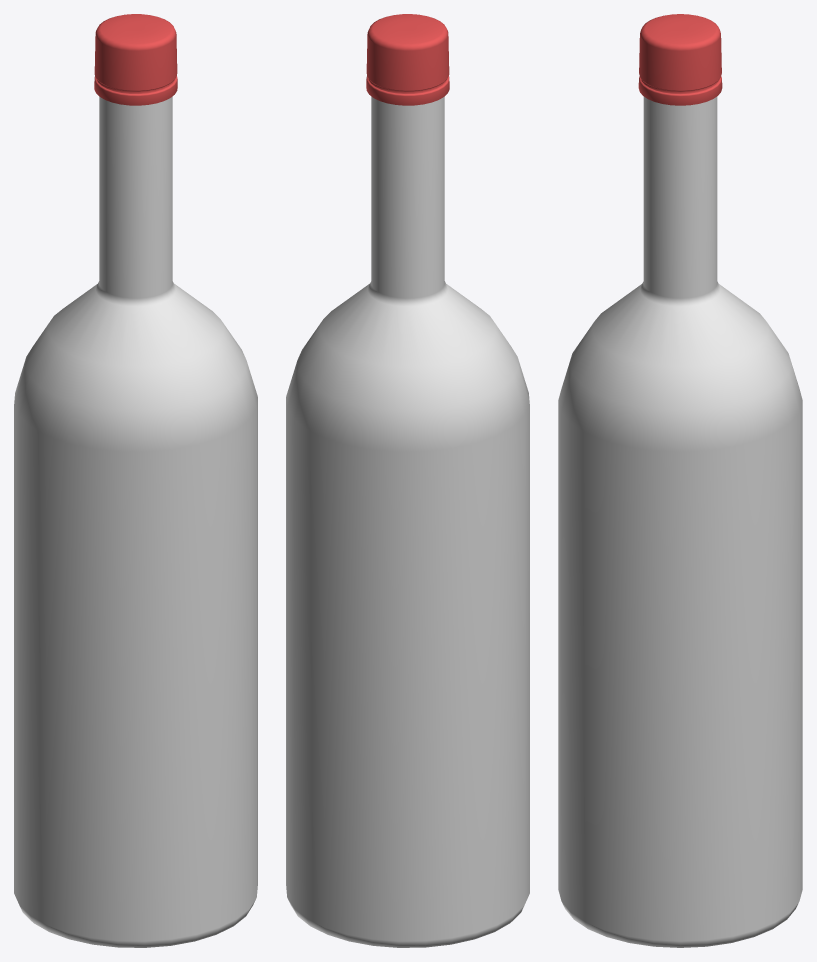
Rendered from Mirin.fbx.
3 renders of one model, left to right at view 1: azimuth 30°, elevation 25°; view 2: azimuth 150°, elevation 25°; view 3: azimuth 270°, elevation 25°, orthographic.
Visible parts, largest first — view 1: bottle, mirinCover; view 2: bottle, mirinCover; view 3: bottle, mirinCover.
Boxes of the visible parts, <box> form: bottle: <box>14,96,257,947</box>; mirinCover: <box>94,14,177,105</box>; bottle: <box>286,96,529,947</box>; mirinCover: <box>366,14,449,105</box>; bottle: <box>558,96,802,947</box>; mirinCover: <box>638,14,722,105</box>.
Size of the model in its own units: 14.34 by 56.58 by 14.34.
